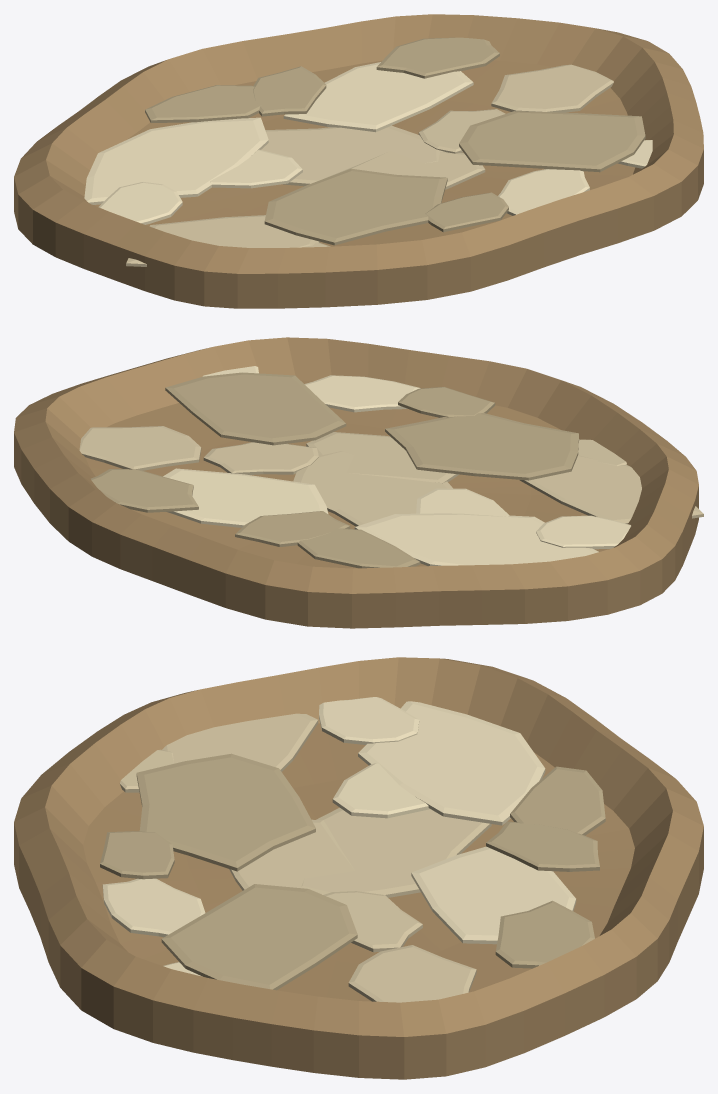
File: calcite-raft-deposit.glb
3 renders of one model, top to bottom at view 1: azimuth 30°, elevation 25°; view 2: azimuth 150°, elevation 25°; view 3: azimuth 270°, elevation 25°, orthographic. The views are drawn at different scales.
Parts seen in each view (by area): view 1: former-pool-floor, eighteen-solid-fractured-rafts; view 2: former-pool-floor, eighteen-solid-fractured-rafts; view 3: former-pool-floor, eighteen-solid-fractured-rafts.
Part boxes in pixels (box(x1,y1,x2,y2)): former-pool-floor: box(14, 14, 703, 308); eighteen-solid-fractured-rafts: box(84, 37, 652, 266); former-pool-floor: box(14, 337, 698, 628); eighteen-solid-fractured-rafts: box(79, 366, 703, 568); former-pool-floor: box(14, 657, 703, 1079); eighteen-solid-fractured-rafts: box(100, 697, 605, 1002).
Size of the model in its own units: 0.325 by 0.0263 by 0.2497.
